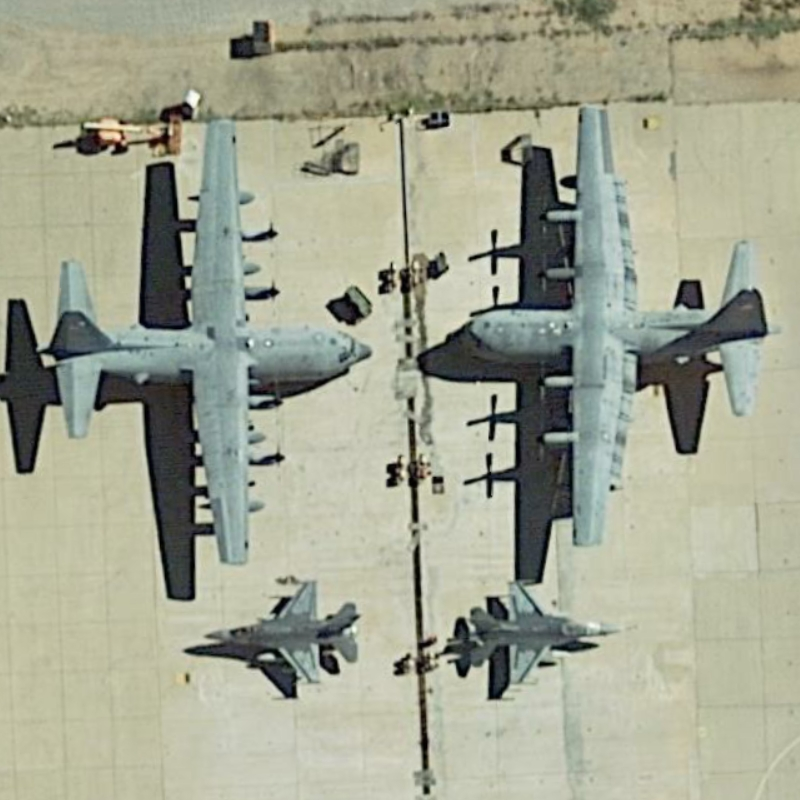A2: (41, 108, 373, 574), (458, 96, 785, 557)
A5: (198, 563, 370, 695), (446, 574, 626, 692)
